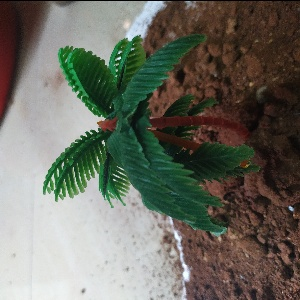plant: (45, 28, 245, 235)
